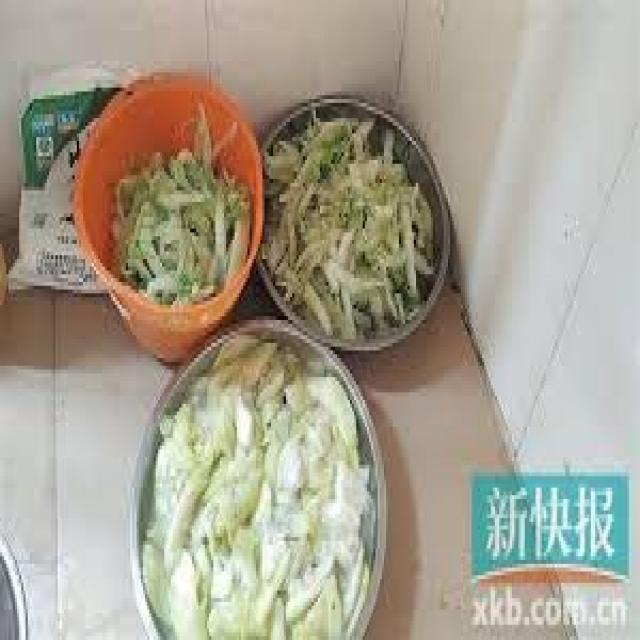organic waste: (156, 332, 371, 636), (260, 110, 433, 328), (111, 149, 250, 301), (143, 522, 179, 617), (190, 103, 232, 160)
